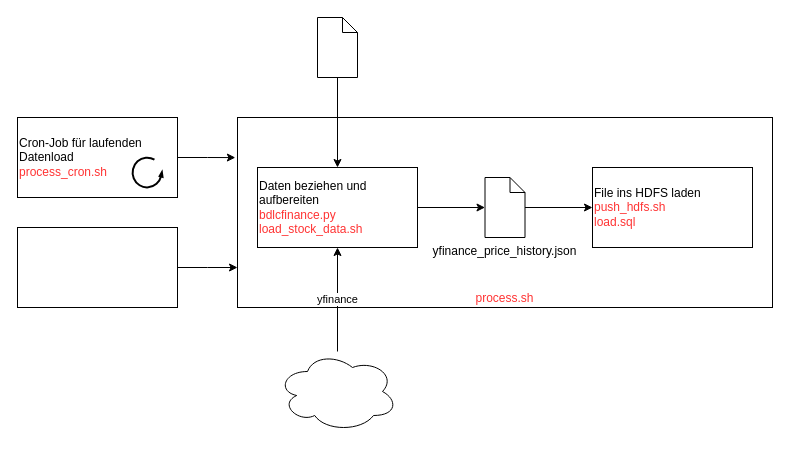
Some shapes in this 790 by 449 pixel diagram are drawn without their labels. The centre of each missing label's shape, as x and y in pixels:
Tabellen aufbereiten und HDFS-Verzeichnis erstellen deploy.sh create.sql: [97,267]
tickers.json: [337,47]
Yahoo Finance: [337,391]
